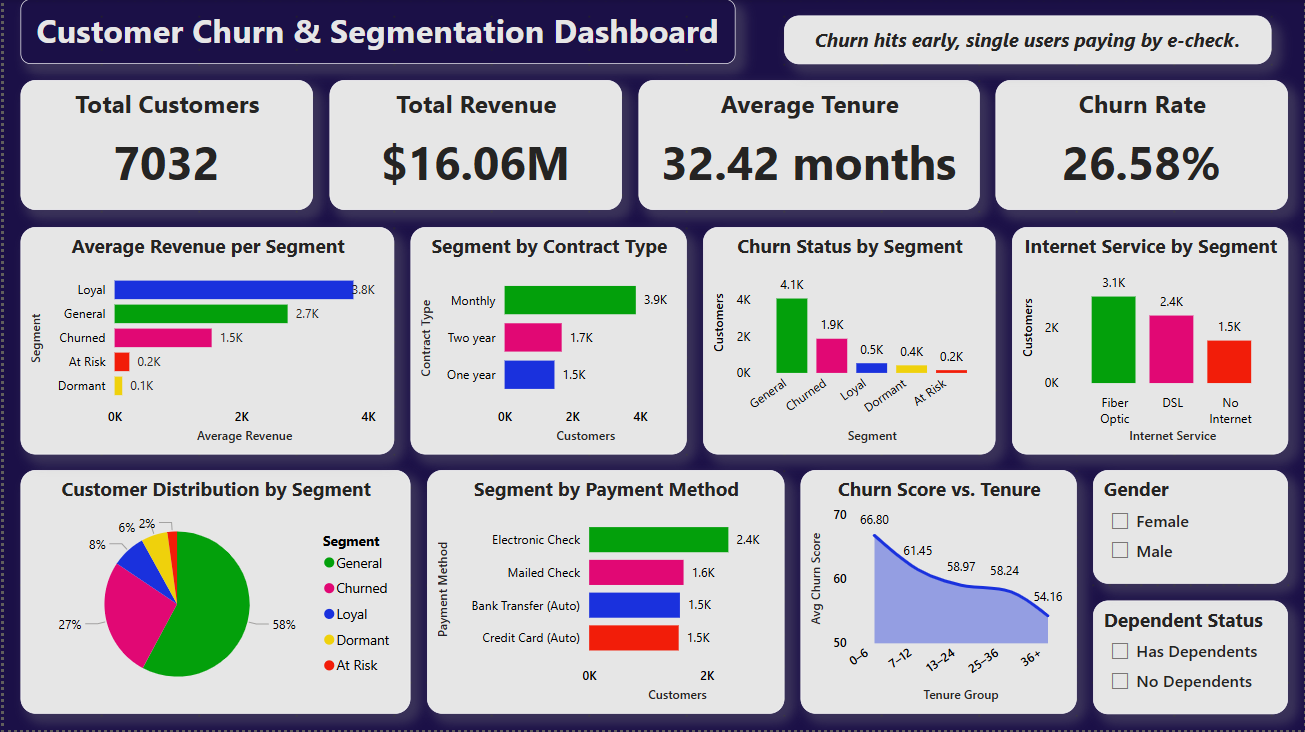

The page's visual inventory and layout, read from the dashboard file:
{"tool":"powerbi","page":{"name":"Page 1","canvas":[1280,720],"ordinal":0},"visuals":[{"type":"textbox","box":[16,0,704,64],"z":0},{"type":"card","title":"Total Customers","fields":{"Values":["churn_segmented.Total Customers"]},"box":[16,80,288,128],"z":1000},{"type":"card","title":"Total Revenue","fields":{"Values":["churn_segmented.Total Revenue"]},"box":[320,80,288,128],"z":2000},{"type":"card","title":"Average Tenure","fields":{"Values":["churn_segmented.Average Tenure"]},"box":[624,80,336,128],"z":3000},{"type":"card","title":"Churn Rate","fields":{"Values":["churn_segmented.Churn Rate"]},"box":[976,80,288,128],"z":4000},{"type":"pieChart","title":"Customer Distribution by Segment","fields":{"Category":["churn_segmented.Segment"],"Y":["CountNonNull(churn_segmented.Segment)"]},"box":[16,464,384,240],"z":5000},{"type":"barChart","title":"Average Revenue per Segment","fields":{"Y":["churn_segmented.Average Revenue"],"Category":["churn_segmented.Segment"]},"box":[16,224,368,224],"z":6000},{"type":"columnChart","title":"Churn Status by Segment","fields":{"Y":["CountNonNull(churn_segmented.Churn Label)"],"Category":["churn_segmented.Segment"]},"box":[688,224,288,224],"z":7000},{"type":"barChart","title":"Segment by Contract Type","fields":{"Category":["churn_segmented.Contract Type"],"Y":["CountNonNull(churn_segmented.Segment)"]},"box":[400,224,272,224],"z":8000},{"type":"barChart","title":"Segment by Payment Method","fields":{"Y":["CountNonNull(churn_segmented.Segment)"],"Category":["churn_segmented.Payment Method Label"]},"box":[416,464,352,240],"z":9000},{"type":"columnChart","title":"Internet Service by Segment","fields":{"Category":["churn_segmented.Internet Service Label"],"Y":["CountNonNull(churn_segmented.Segment)"]},"box":[992,224,272,224],"z":10000},{"type":"slicer","title":"Dependent Status","fields":{"Values":["churn_segmented.Dependent Status"]},"box":[1072,592,192,112],"z":11000},{"type":"lineChart","title":"Churn Score vs. Tenure","fields":{"Y":["Avg(churn_segmented.Churn Score)"],"Category":["churn_segmented.Tenure Group"]},"box":[784,464,272,240],"z":12000},{"type":"slicer","title":"Gender","fields":{"Values":["churn_segmented.Gender Label"]},"box":[1072,464,192,112],"z":13000},{"type":"textbox","box":[768,16,480,48],"z":14000}]}

Visuals, with their boxes in screenshot pixels (x1, y1, x2, y2), scaled from the page's 1280x720 canvas onto the 1305x732 screenshot:
textbox: 16:0:734:65
"Total Customers" card: 16:81:310:211
"Total Revenue" card: 326:81:620:211
"Average Tenure" card: 636:81:979:211
"Churn Rate" card: 995:81:1289:211
"Customer Distribution by Segment" pieChart: 16:472:408:716
"Average Revenue per Segment" barChart: 16:228:392:455
"Churn Status by Segment" columnChart: 701:228:995:455
"Segment by Contract Type" barChart: 408:228:685:455
"Segment by Payment Method" barChart: 424:472:783:716
"Internet Service by Segment" columnChart: 1011:228:1289:455
"Dependent Status" slicer: 1093:602:1289:716
"Churn Score vs. Tenure" lineChart: 799:472:1077:716
"Gender" slicer: 1093:472:1289:586
textbox: 783:16:1272:65
